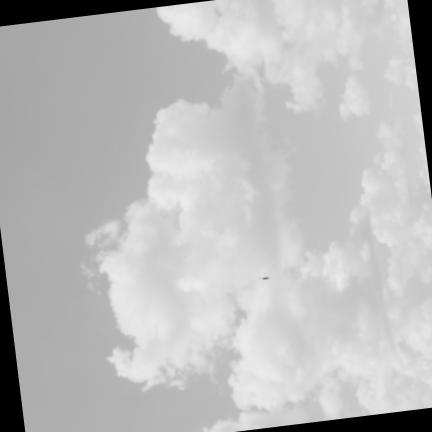Shahed: (257, 274, 270, 279)
